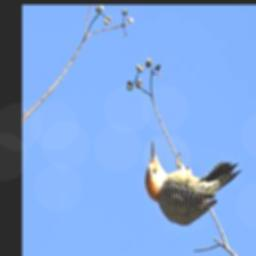Woodpecker: (136, 135, 244, 226)
